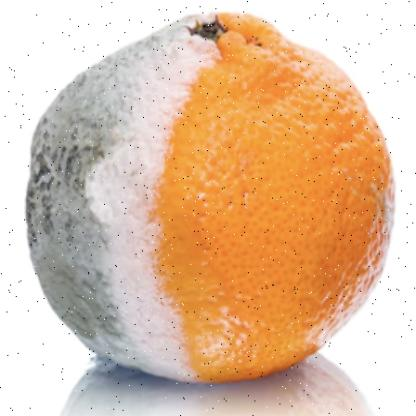rotten: (26, 10, 396, 377)
